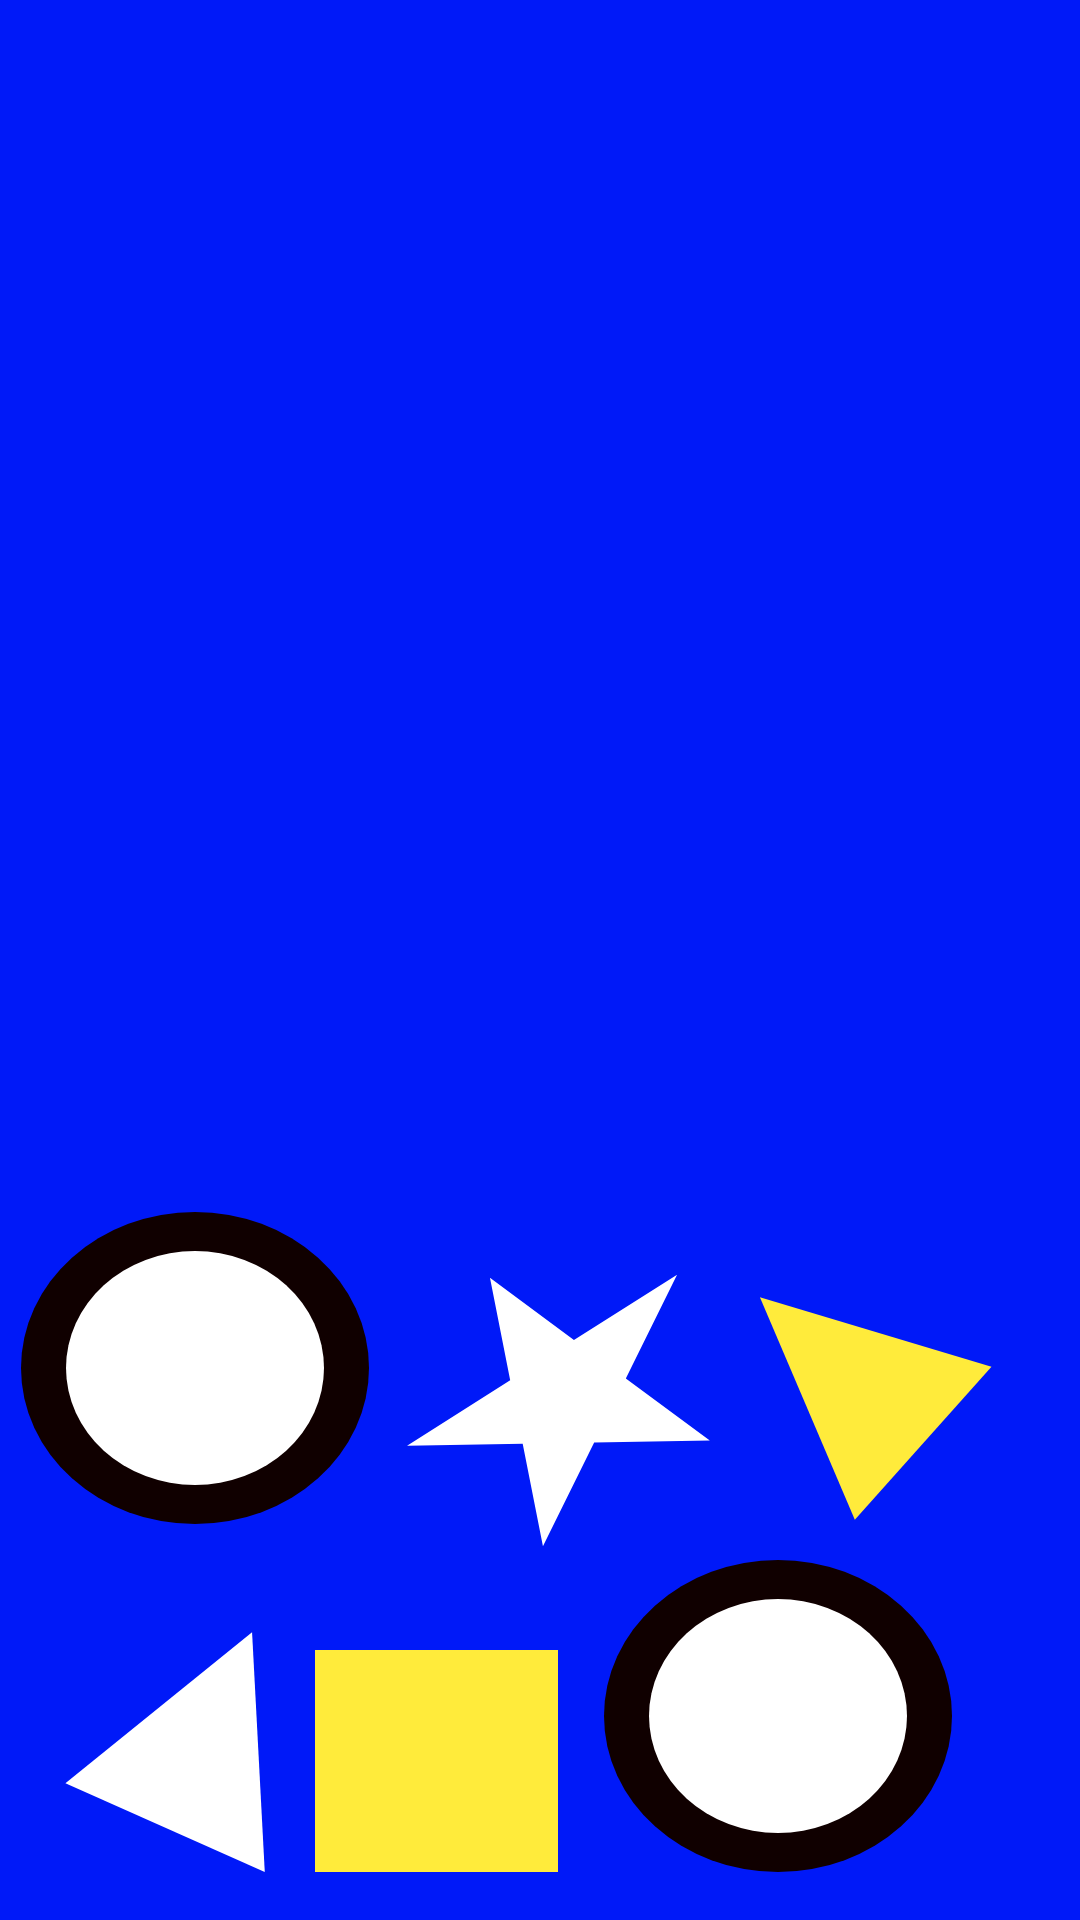

Named icons in this screenshot (1080x1920) and their bounding boxes, detection(x1, y1, x2, y2):
phases create shape circle: detection(21, 1212, 369, 1524), detection(604, 1560, 952, 1872)
phases create shape star: detection(407, 1275, 710, 1546)
phases create shape triangle: detection(760, 1297, 992, 1520), detection(65, 1632, 265, 1872)
